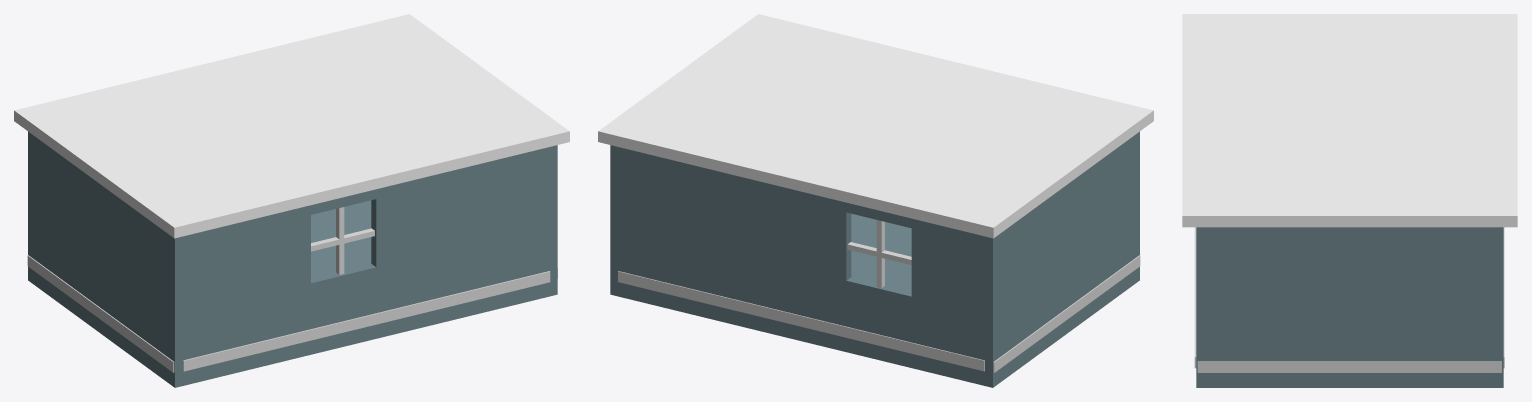
3 renders of one model, left to right at view 1: azimuth 30°, elevation 25°; view 2: azimuth 150°, elevation 25°; view 3: azimuth 270°, elevation 25°, orthographic. The views are drawn at different scales.
Visible parts, largest first — view 1: Room; view 2: Room; view 3: Room.
Part boxes in pixels (<box>): Room: <box>14,14,569,387</box>; Room: <box>598,14,1153,387</box>; Room: <box>1182,14,1517,387</box>.
Bounding box in the file's own units: 38.56 × 15.55 × 27.07.
